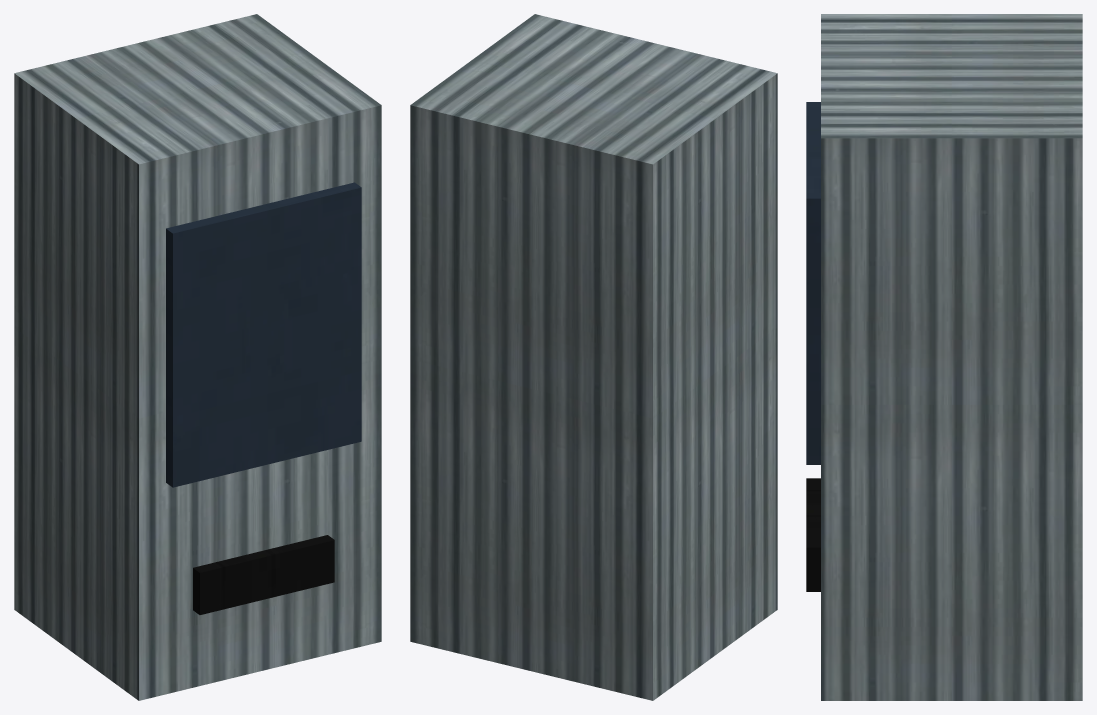
The model's file is vending_machine_01.glb.
3 renders of one model, left to right at view 1: azimuth 30°, elevation 25°; view 2: azimuth 150°, elevation 25°; view 3: azimuth 270°, elevation 25°, orthographic. The views are drawn at different scales.
Parts seen in each view (by area): view 1: vending_machine_01; view 2: vending_machine_01; view 3: vending_machine_01.
Boxes of the visible parts, box(x1,y1,x2,y2) form: vending_machine_01: box(14, 14, 381, 700); vending_machine_01: box(410, 14, 777, 700); vending_machine_01: box(806, 14, 1082, 700).
Size of the model in its own units: 0.9 by 1.9 by 0.845.
Materials: 3 (3 with a texture image).
